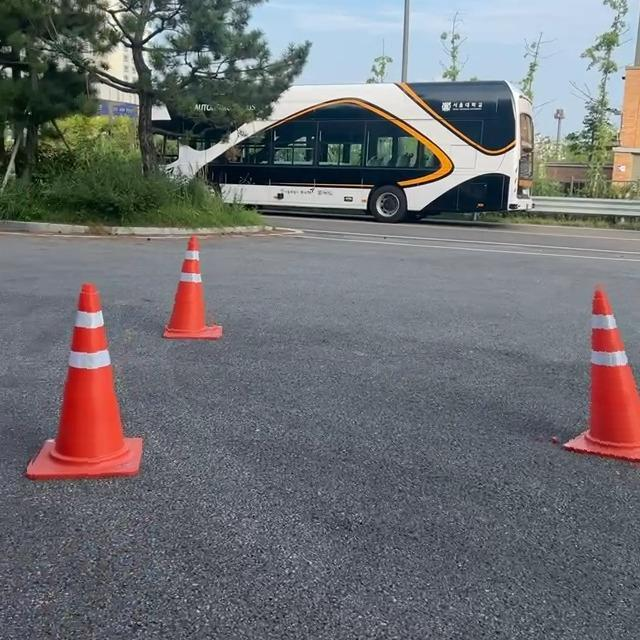fallen_object: (26, 262, 186, 536), (511, 271, 640, 491), (176, 242, 282, 396)
